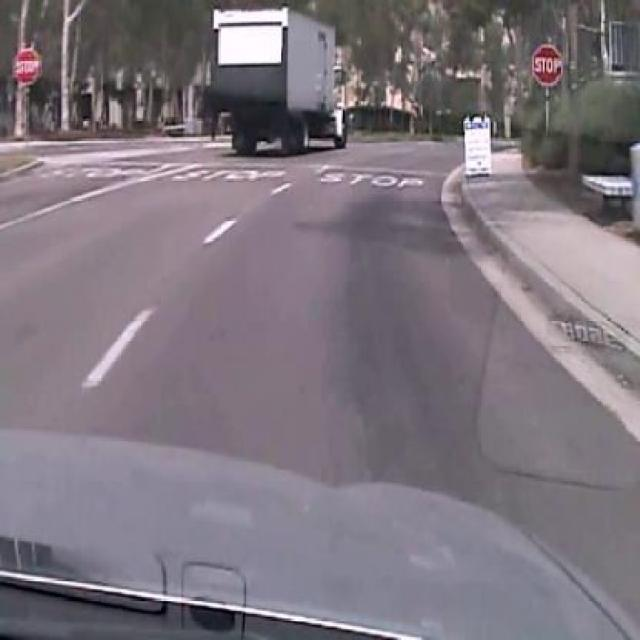Stop: (530, 42, 564, 89)
